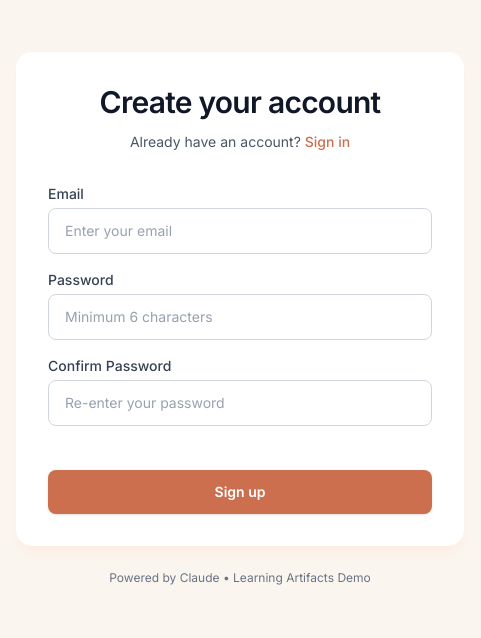
Test: SignupPage › validates password match
Type "test@example.com" into the field with placeholder "Enter your email".
click(240, 231); type("test@example.com")  # box 48,208 -> 432,254
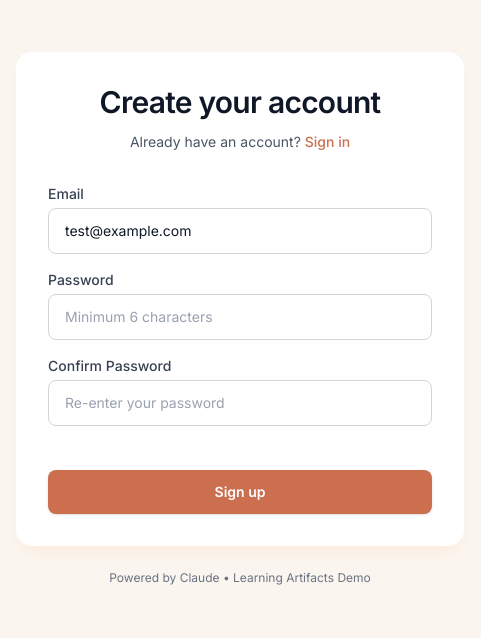
Type "password123" into the password field with placeholder "Minimum 6 characters".
click(240, 317); type("password123")  # box 48,294 -> 432,340
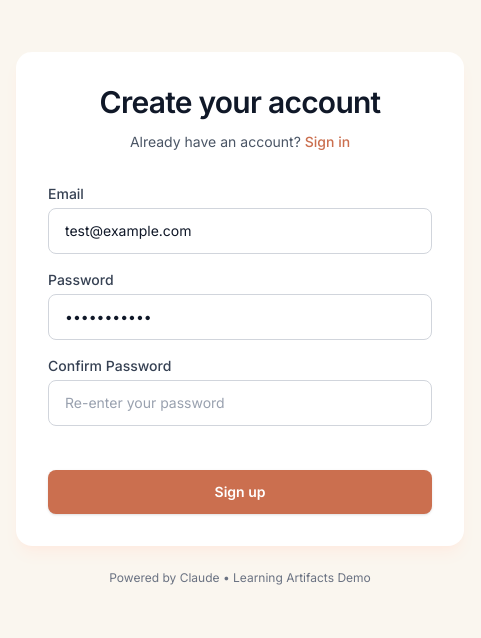
Type "different123" into the password field with placeholder "Re-enter your password".
click(240, 403); type("different123")  # box 48,380 -> 432,426
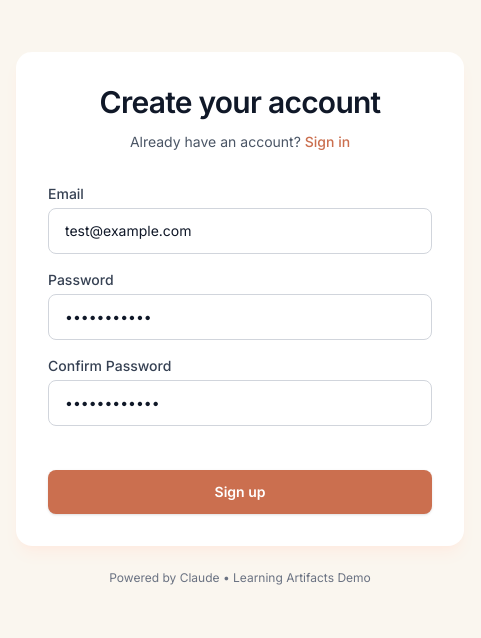
Click the button "Sign up".
click(240, 492)  # box 48,470 -> 432,514
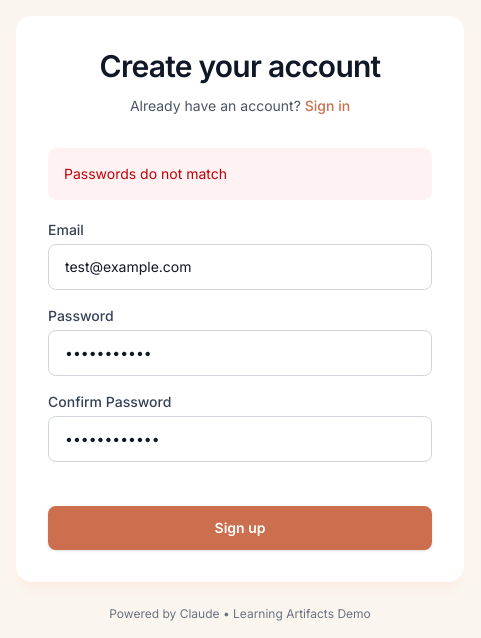
Check: the text "Passwords do not match" is shown, box 64,165 -> 227,182
